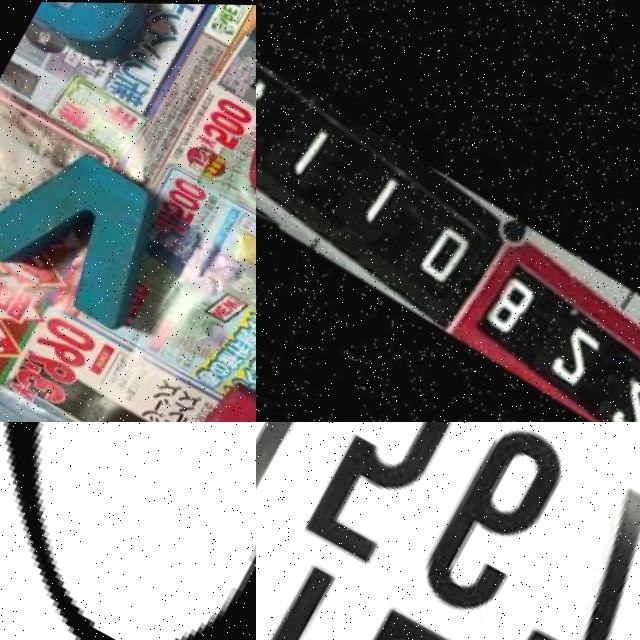0: (0, 422, 256, 640), (410, 217, 477, 291)
1: (256, 545, 344, 640), (350, 165, 406, 234), (281, 118, 335, 186)
2: (291, 594, 469, 640), (539, 318, 603, 393), (600, 370, 640, 422)
4: (256, 422, 358, 517), (256, 62, 270, 136)
5: (296, 422, 469, 574)
6: (403, 422, 579, 635)
7: (518, 471, 640, 640)
8: (478, 272, 540, 343)
V: (0, 123, 188, 333)
